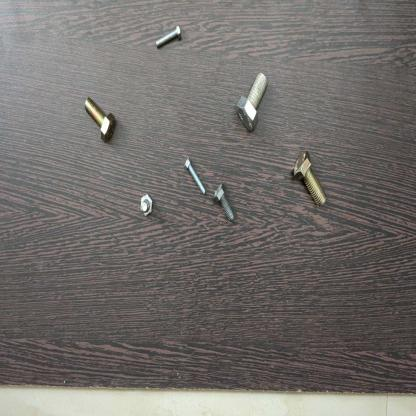Bolts: (288, 144, 330, 209), (230, 70, 271, 134), (210, 179, 236, 225), (152, 21, 184, 56), (179, 153, 181, 153)
